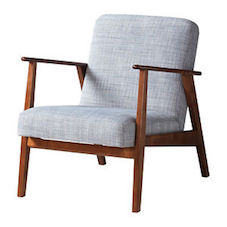chair: (5, 6, 214, 218)
